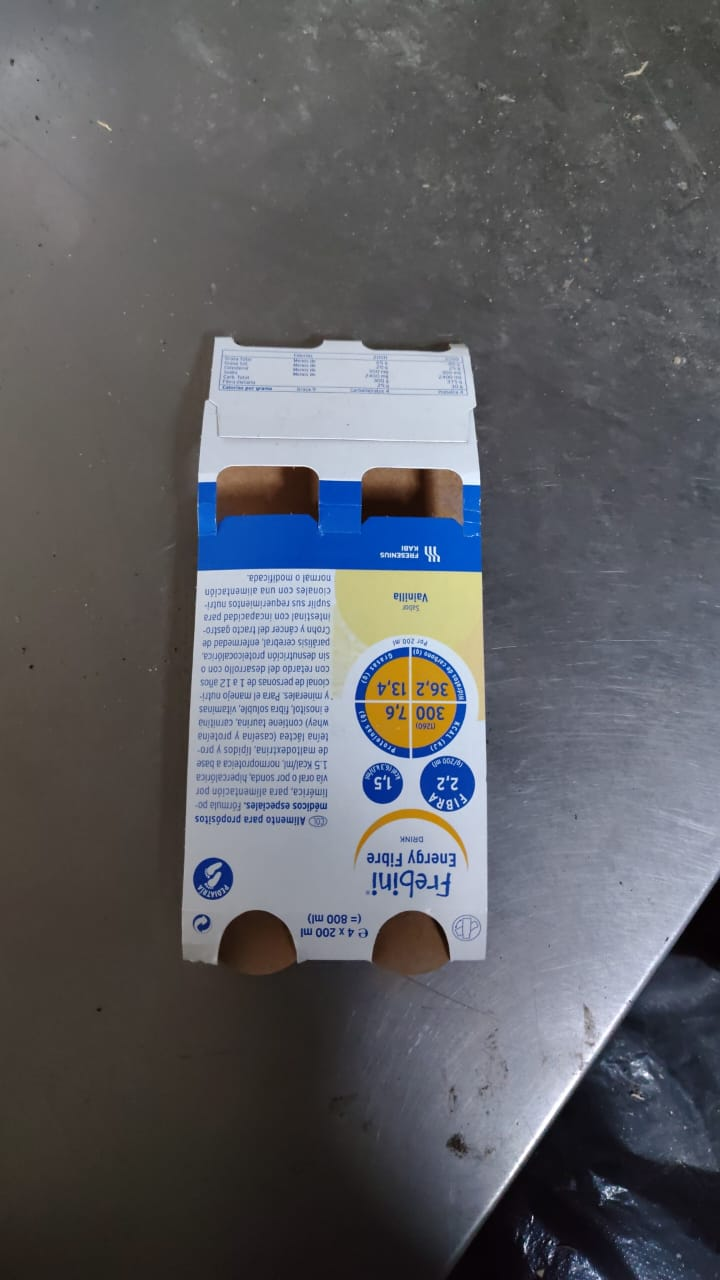Carton: (180, 330, 486, 977)
